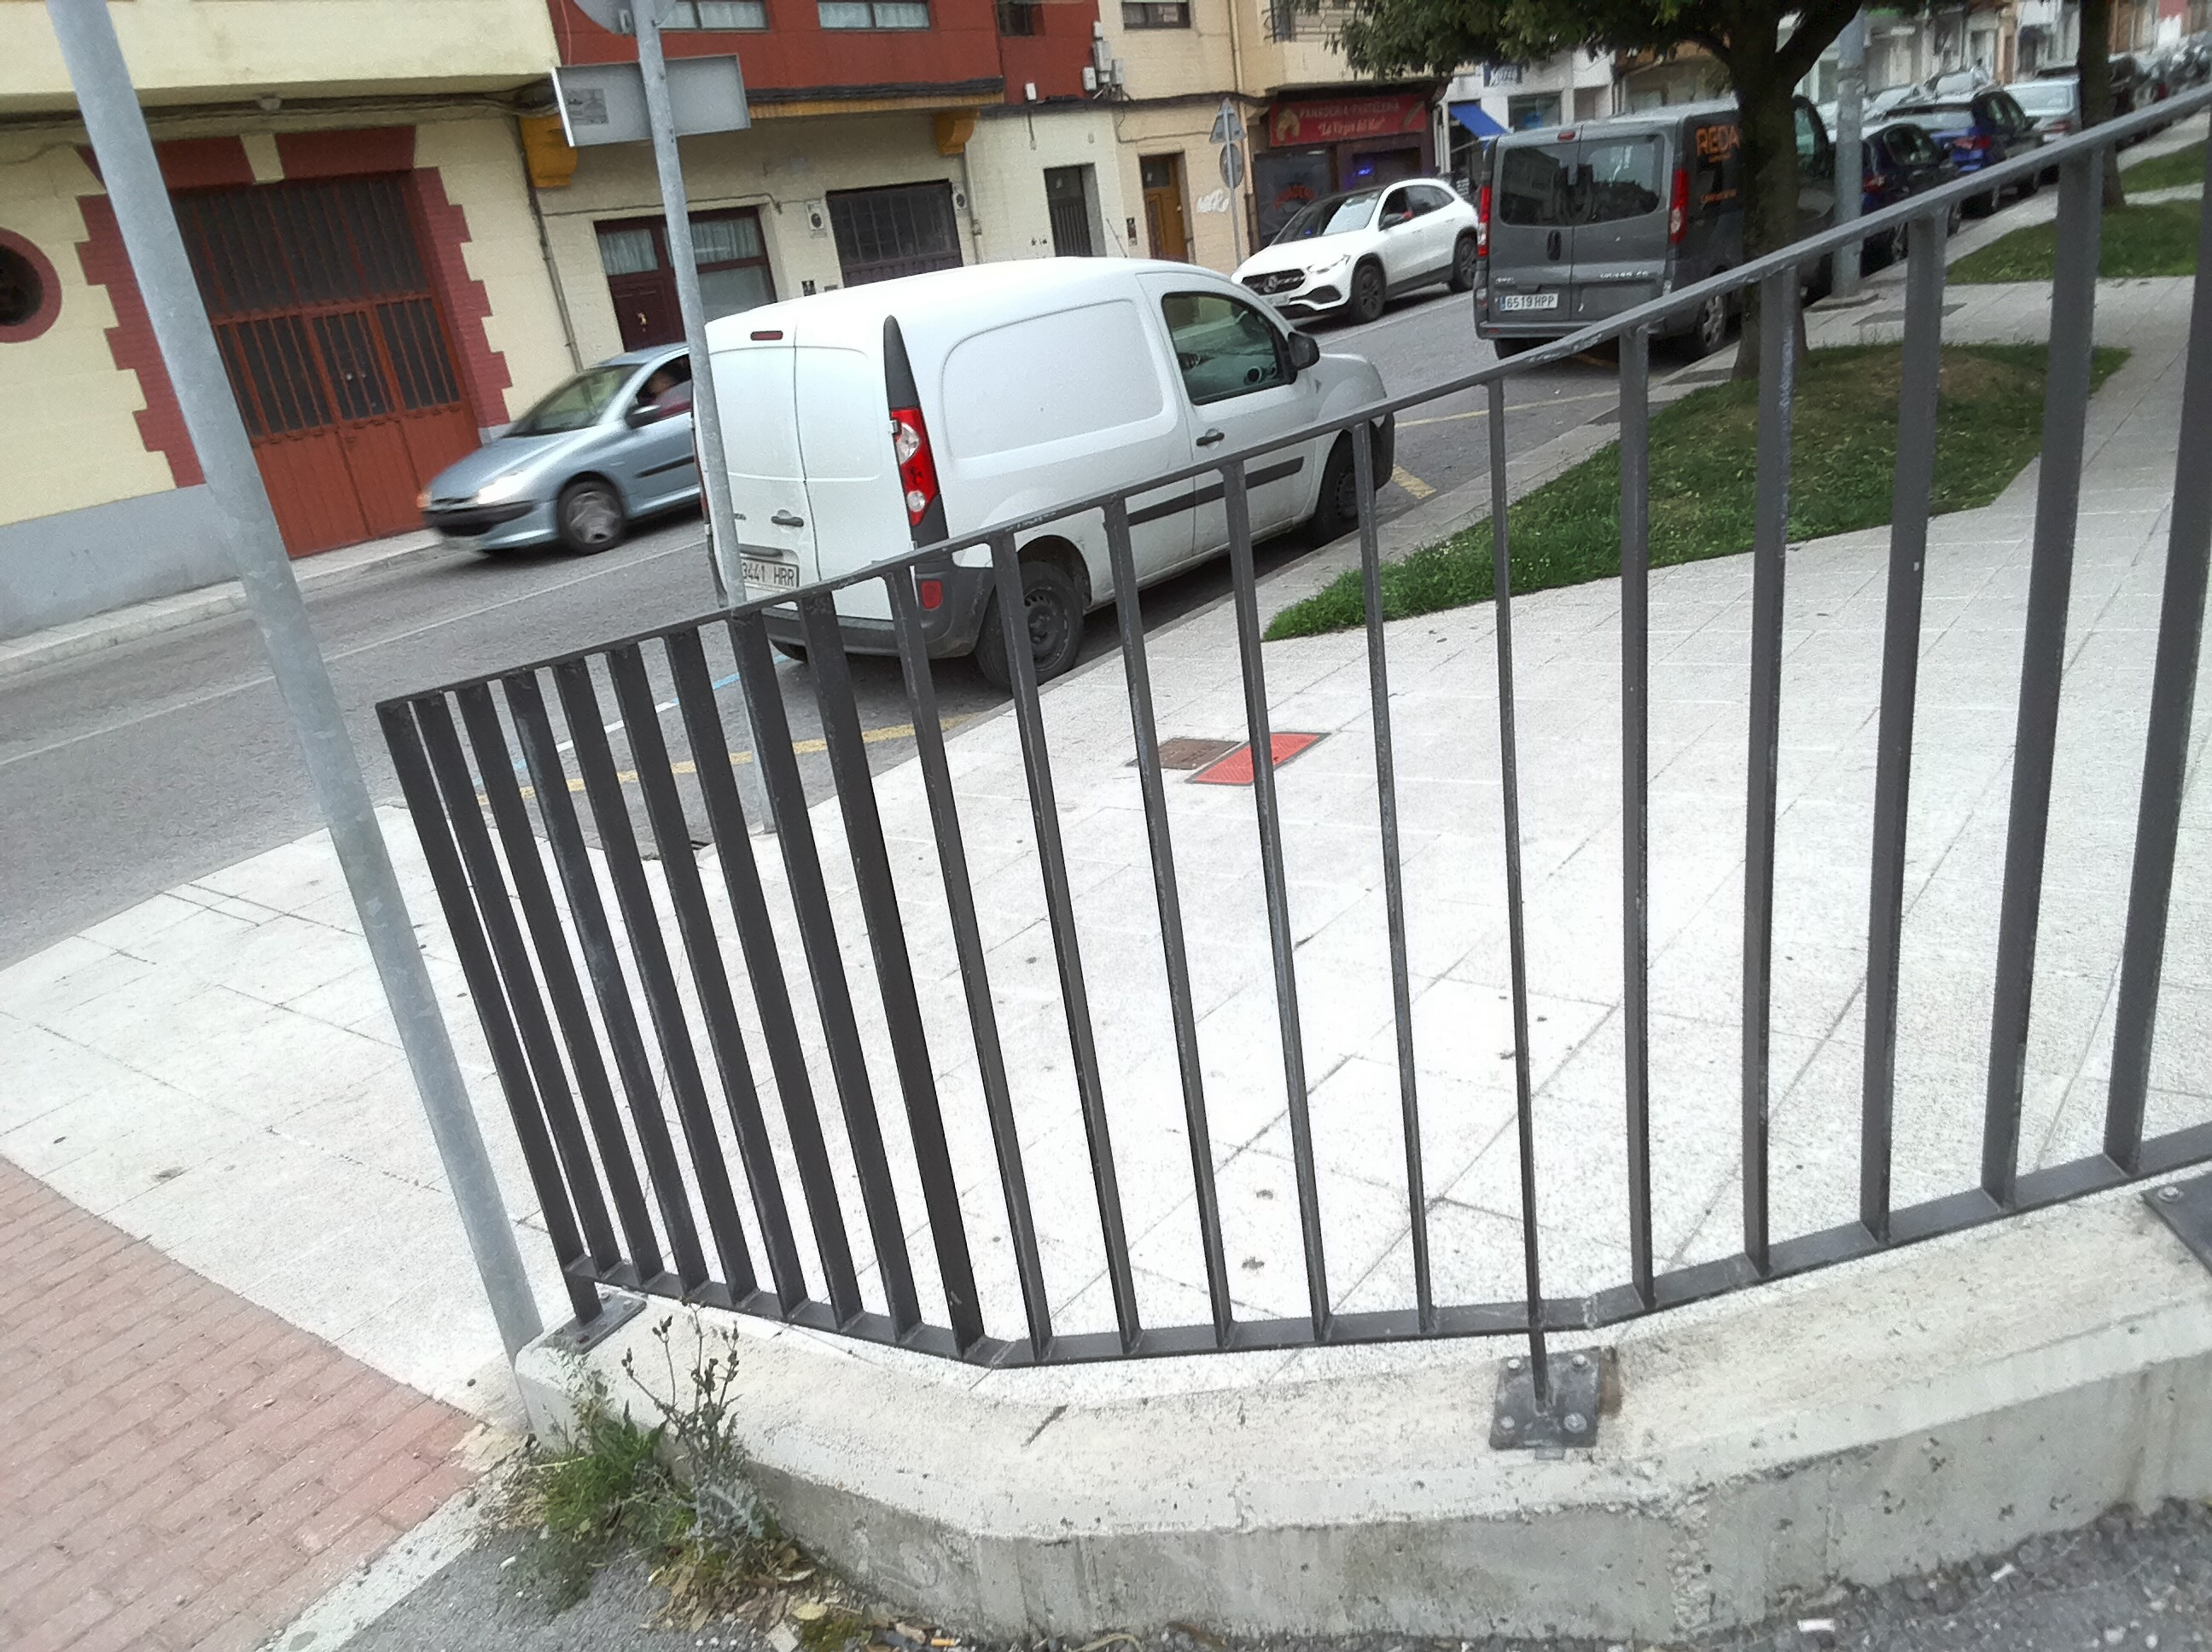Poste: (17, 0, 583, 1362)
Valla: (378, 109, 2191, 1525)
Vehiculo: (684, 278, 1421, 692)
